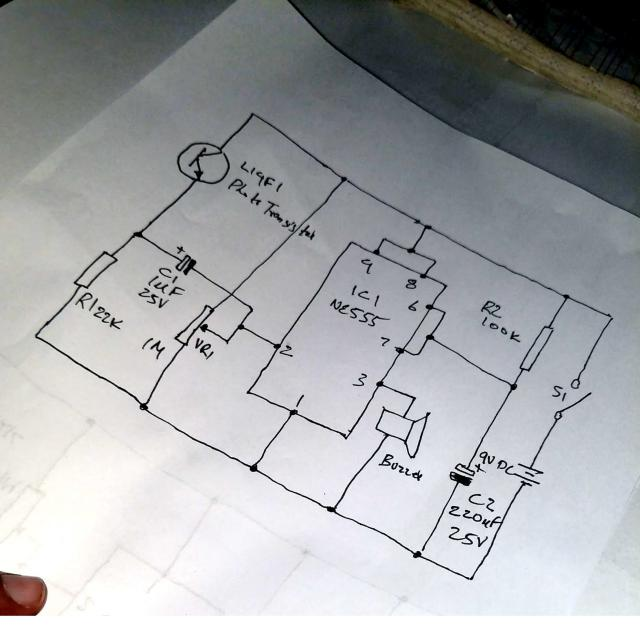capacitor: (448, 462, 488, 488), (172, 244, 198, 277)
crossover: (224, 287, 238, 303)
junction: (248, 110, 258, 121), (236, 321, 246, 332), (411, 350, 421, 361), (326, 504, 336, 515), (465, 574, 475, 585), (607, 312, 617, 323), (339, 175, 349, 185), (133, 229, 143, 239), (247, 303, 257, 313), (139, 401, 149, 411), (407, 246, 417, 256), (425, 332, 435, 342), (409, 393, 419, 403), (379, 233, 388, 244), (561, 292, 570, 303), (223, 337, 232, 347), (31, 331, 40, 341), (423, 222, 432, 232), (429, 256, 438, 266), (440, 308, 449, 318), (249, 462, 258, 472), (412, 549, 421, 559), (509, 382, 518, 392)
resistor: (73, 249, 119, 294), (515, 324, 555, 374), (173, 304, 215, 348)
source: (514, 461, 545, 489)
switch: (552, 376, 594, 424)
text: (228, 178, 315, 242), (447, 490, 502, 548), (328, 284, 392, 329), (137, 266, 186, 310), (479, 298, 521, 346), (76, 292, 122, 331), (239, 159, 284, 194), (377, 452, 423, 483), (478, 449, 515, 476), (140, 334, 167, 363), (194, 338, 214, 361), (550, 382, 567, 403), (351, 370, 367, 388), (359, 256, 373, 276), (278, 342, 294, 358), (404, 276, 417, 291), (407, 297, 419, 313), (295, 392, 305, 409), (380, 335, 390, 350)
transistor: (176, 139, 230, 188)
